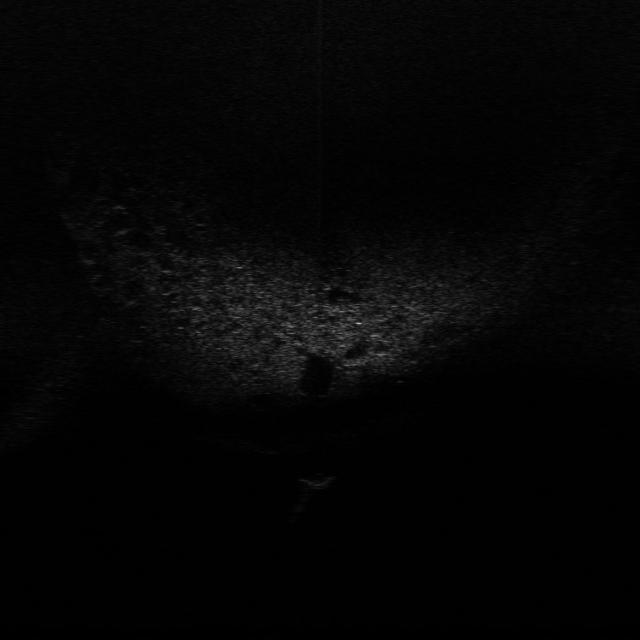cube: (294, 466, 337, 492)
